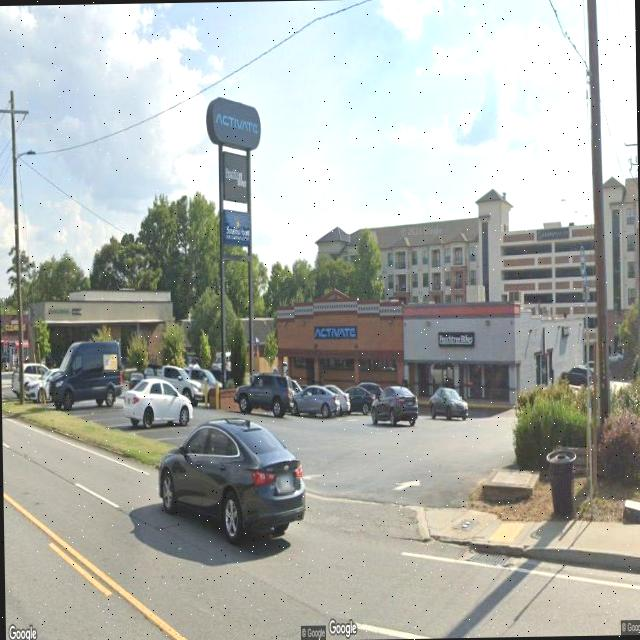trash_can: (546, 450, 576, 522)
